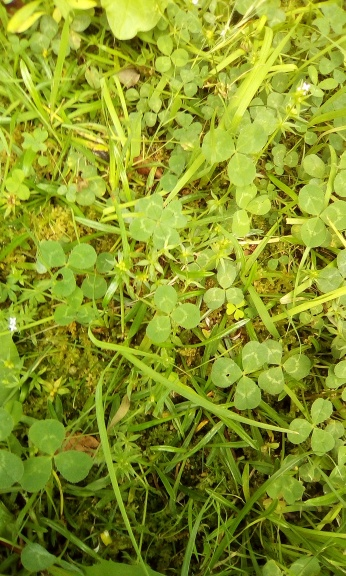4leaf: (128, 194, 188, 249)
